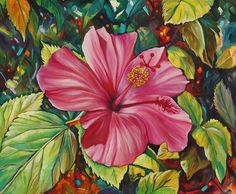Hibiscus: (38, 29, 213, 170)
